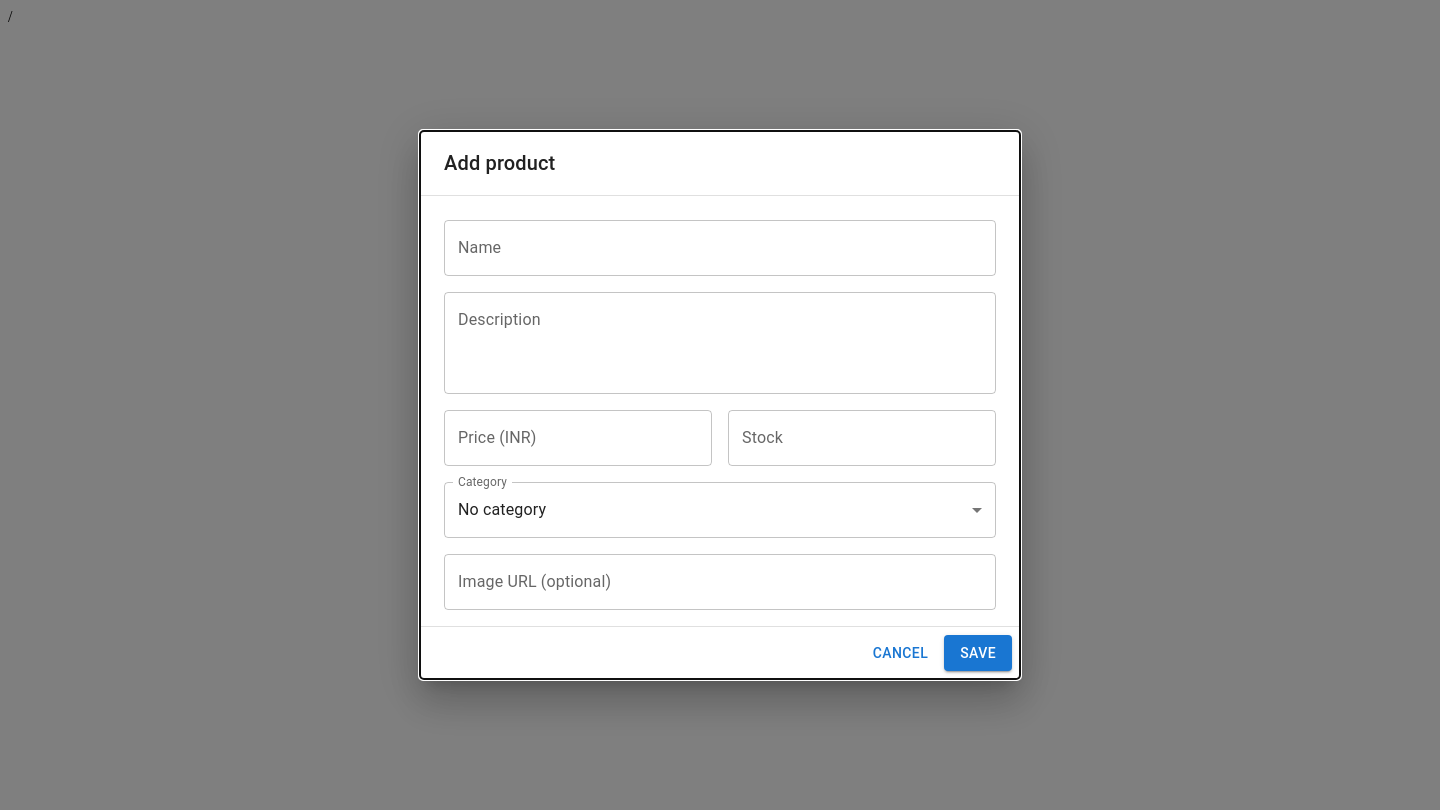
it: ProductFormModal › rejects name=Lamp price= stock=1
Type "Lamp" into the field labelled "Name". click: (720, 248)
box: [444,220,996,276]
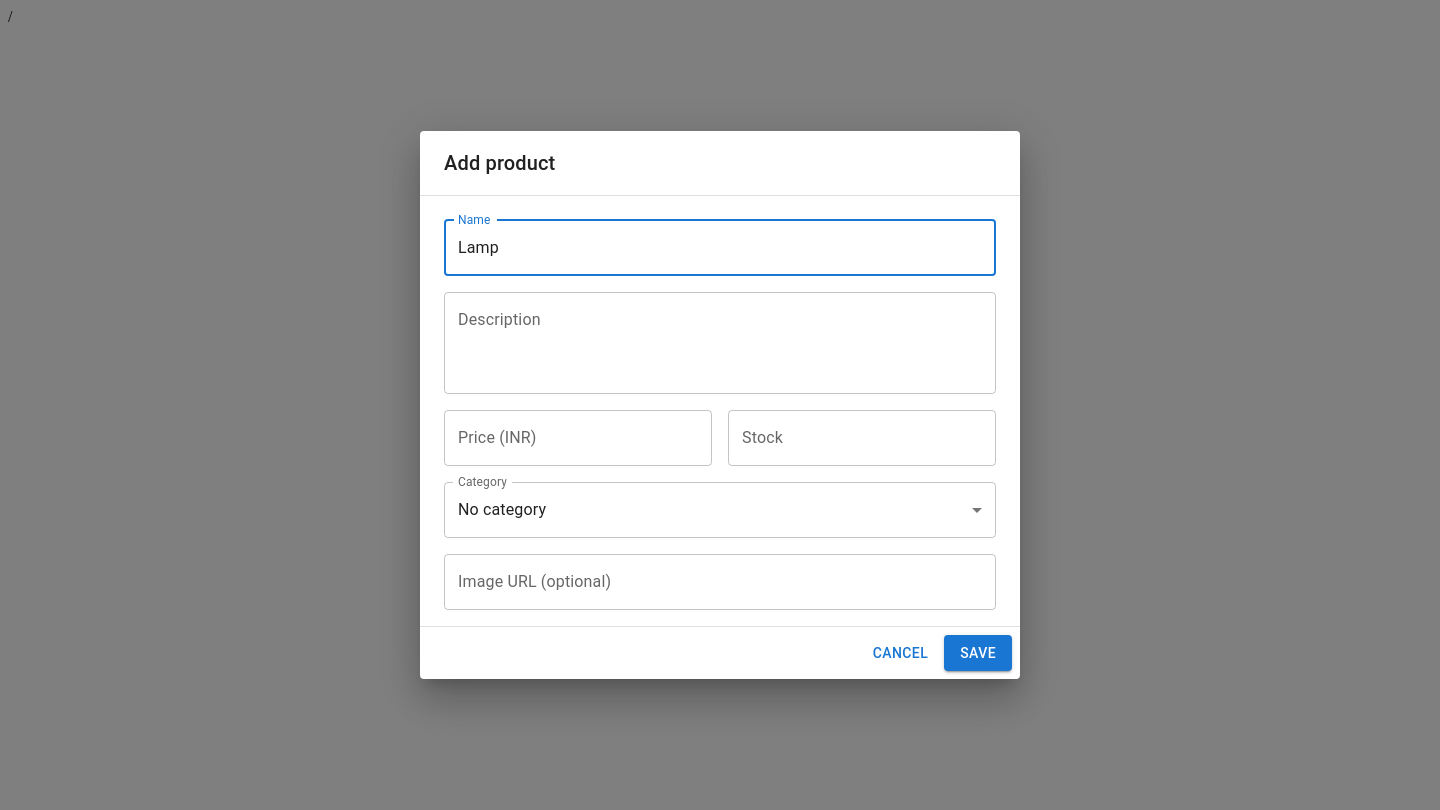
Type "1" into the number field labelled "Stock". click: (862, 438)
box: [728,410,996,466]
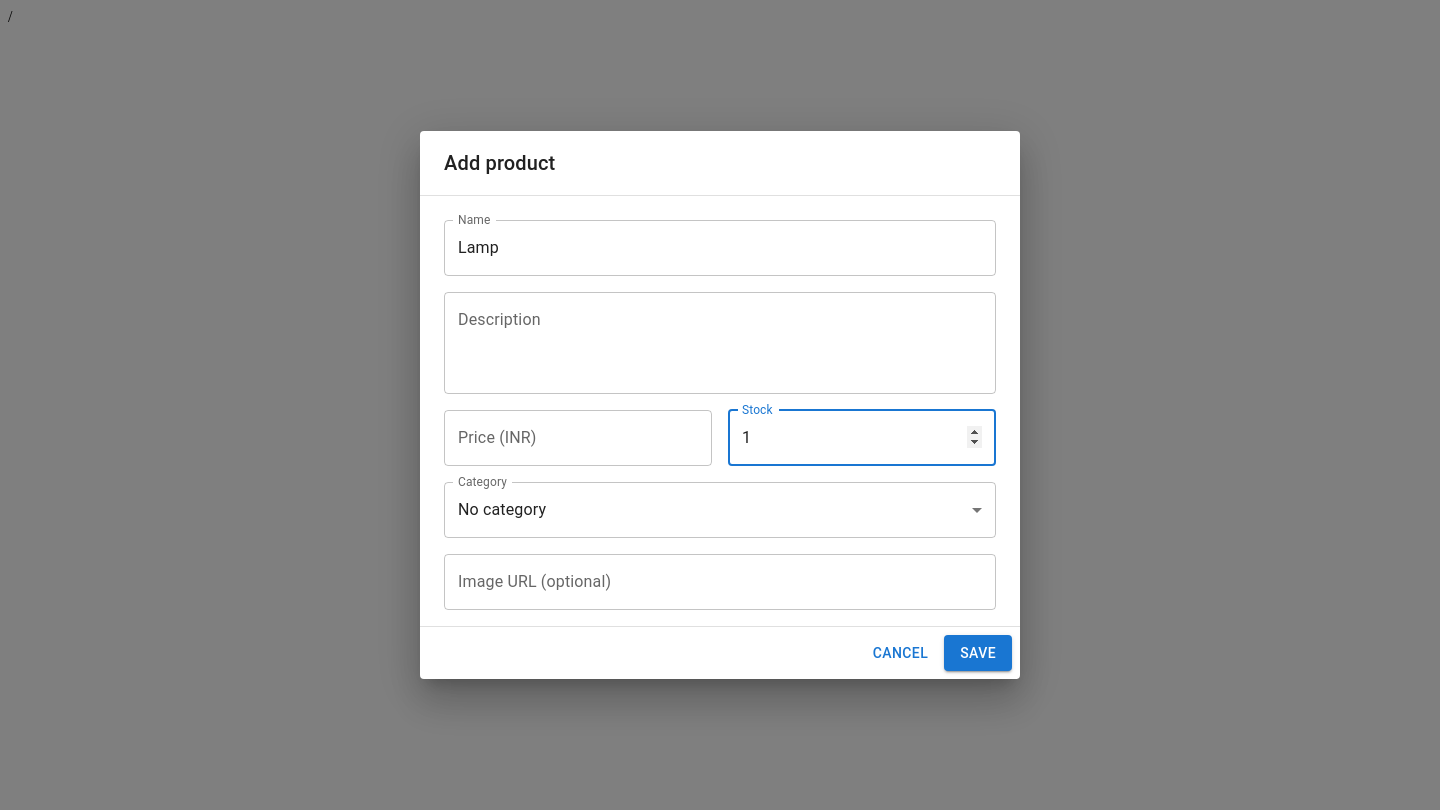
Click the button "Save". click: (978, 653)
box: [944,635,1012,671]
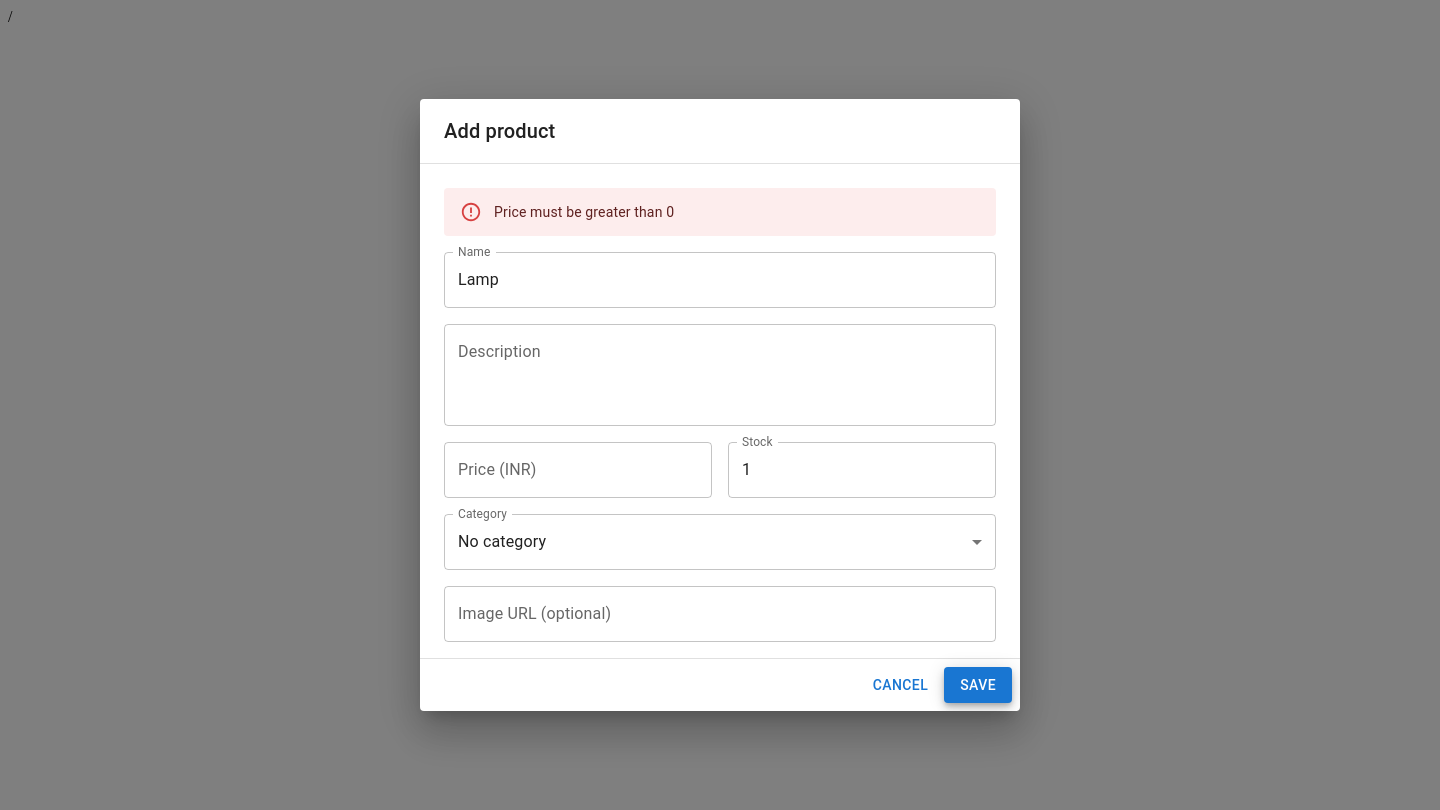
Expected: the text "Price must be greater than 0" is shown, [494,204,674,220]
